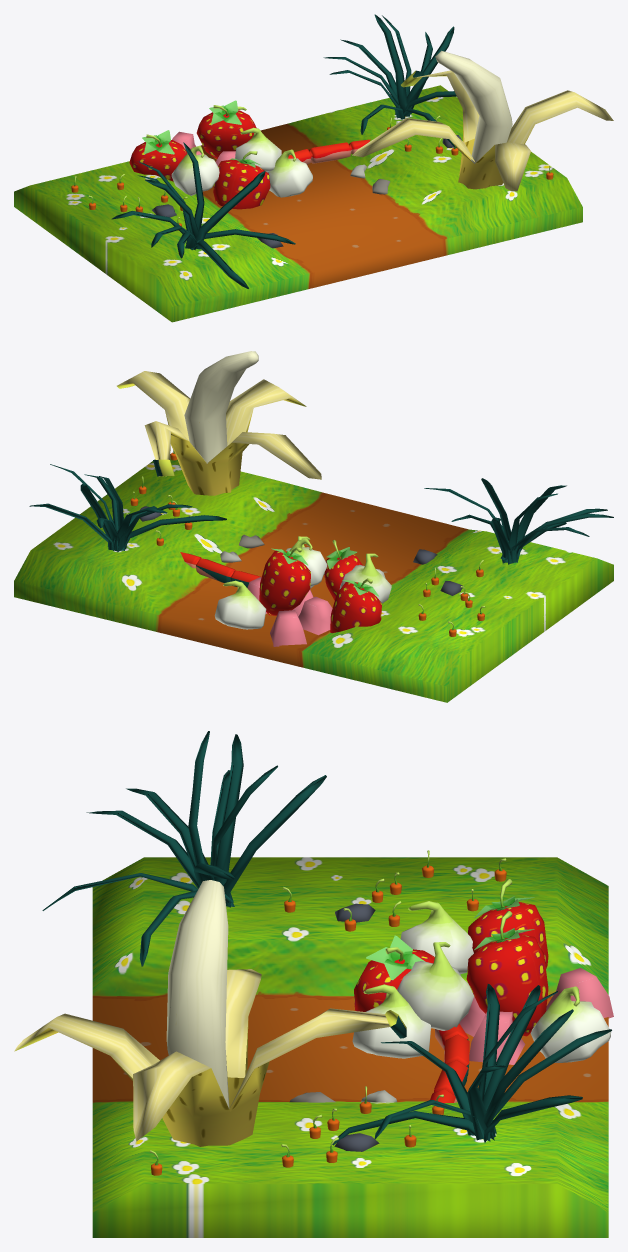
The model's file is D_block_08.FBX.
3 renders of one model, top to bottom at view 1: azimuth 30°, elevation 25°; view 2: azimuth 150°, elevation 25°; view 3: azimuth 270°, elevation 25°, orthographic. The views are drawn at different scales.
Parts seen in each view (by area): view 1: sol; view 2: sol; view 3: sol.
Boxes of the visible parts, box(x1,y1,x2,y2) form: sol: box(14, 14, 613, 322); sol: box(14, 351, 613, 702); sol: box(14, 731, 613, 1237).
Size of the model in its own units: 1038 by 360 by 698.
